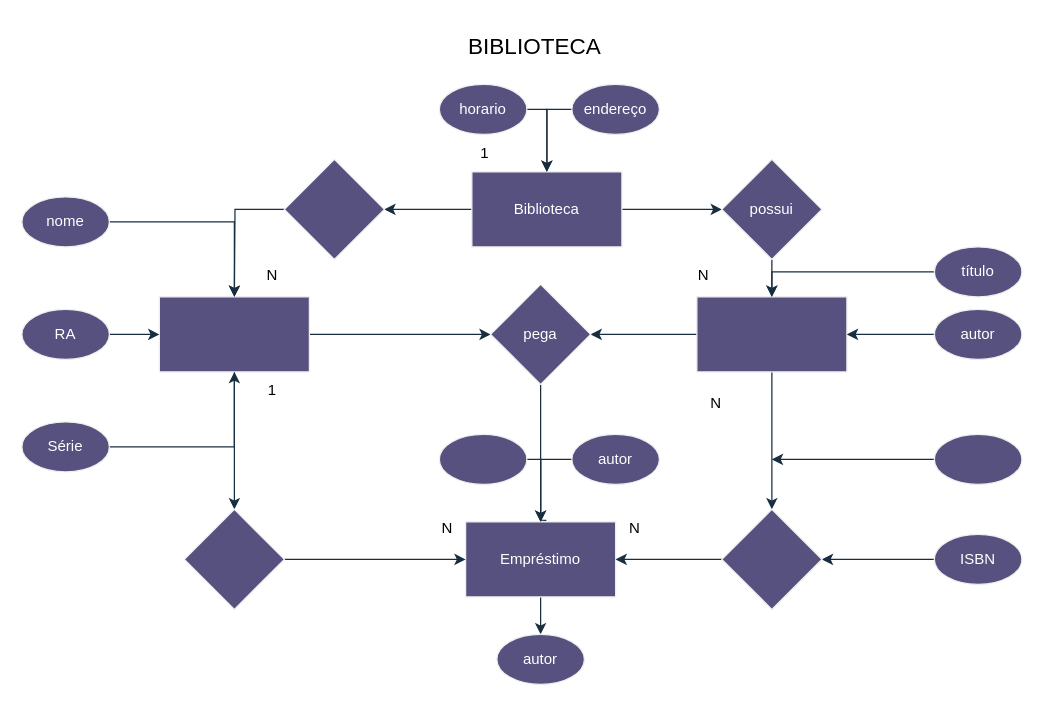
Image size: 1044x706. Some labels were removed from this diagram. Here are the shapes that lost their labels. From the top down, the centre of each, then its label:
the point at 333,208: Atende
the point at 233,334: Aluno
the point at 771,334: Livro
the point at 482,458: Data de retirada
the point at 977,458: ano de publicação
the point at 233,558: realiza
the point at 771,558: são
